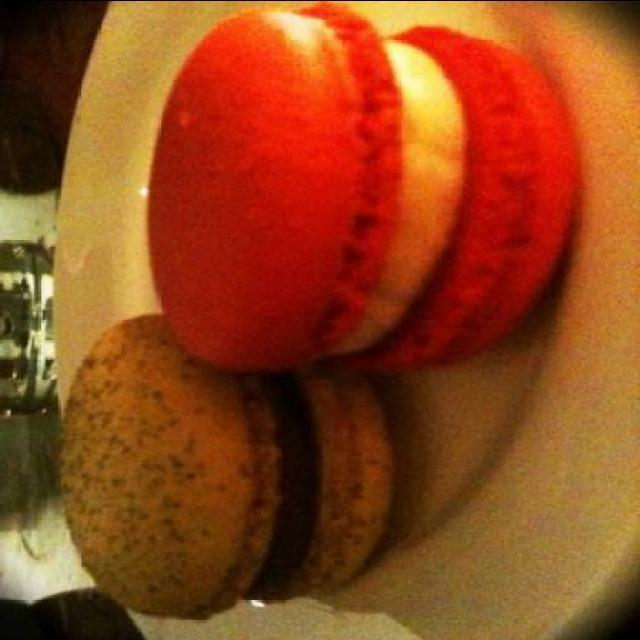Macaron: (53, 1, 590, 624)
